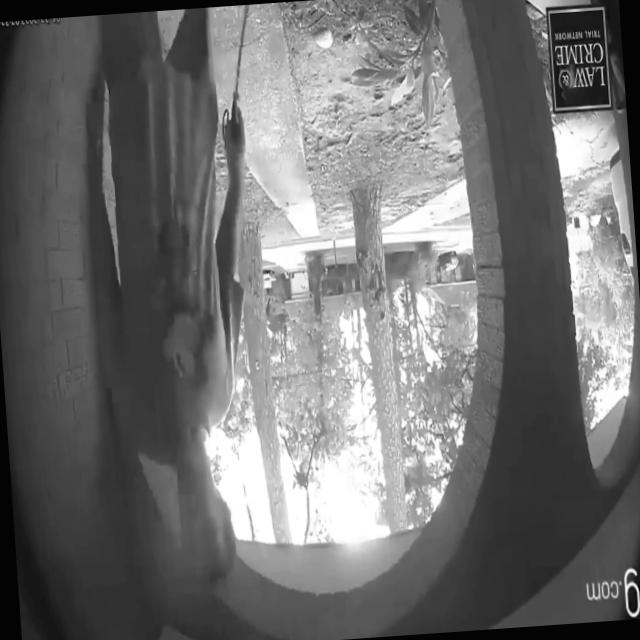weapon: (78, 4, 288, 588)
